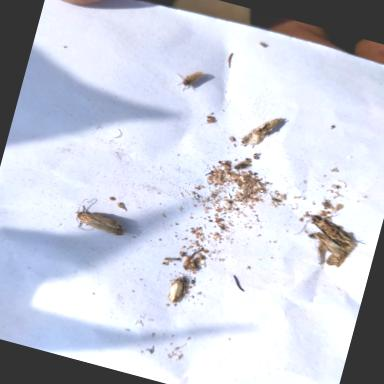pbw: (294, 207, 364, 252), (71, 197, 133, 243), (310, 230, 352, 260), (324, 238, 357, 272), (251, 112, 284, 142), (166, 274, 190, 307)
